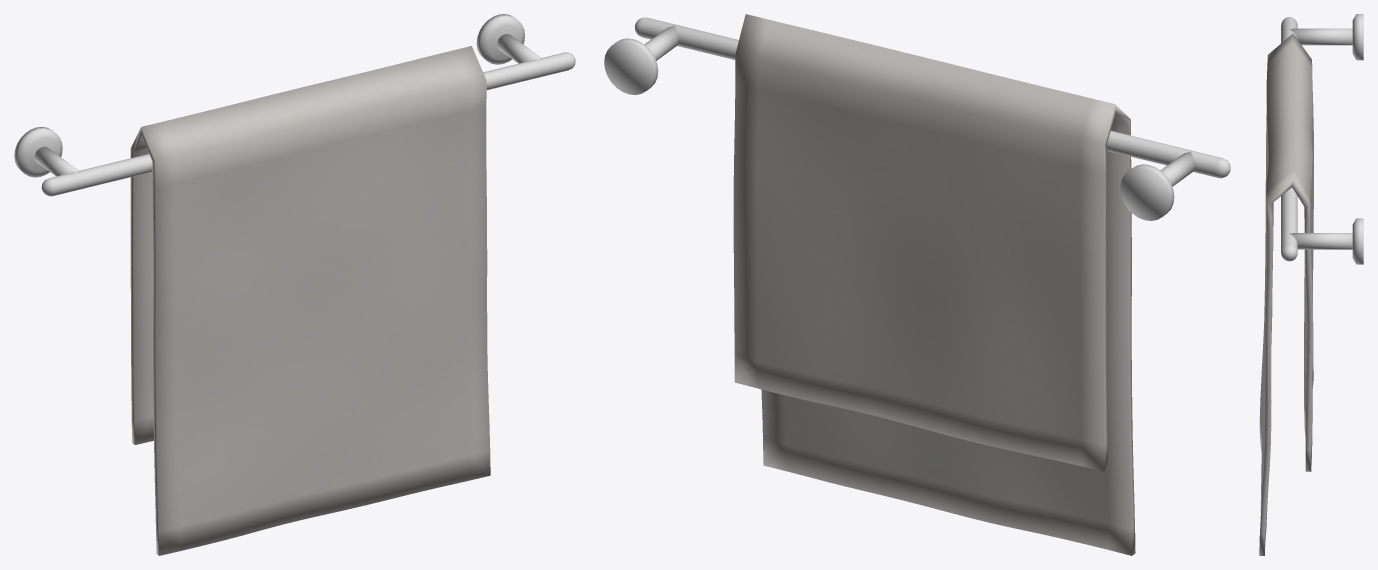
File: toallero_barra_60.glb
The picture shows the model from 3 angles, left to right: view 1: azimuth 30°, elevation 25°; view 2: azimuth 150°, elevation 25°; view 3: azimuth 270°, elevation 25°; orthographic projection. The views are drawn at different scales.
Visible parts, largest first — view 1: toallero_barra_60; view 2: toallero_barra_60; view 3: toallero_barra_60.
Part boxes in pixels (bbox=[...]): toallero_barra_60: bbox=[14, 14, 575, 555]; toallero_barra_60: bbox=[604, 14, 1230, 555]; toallero_barra_60: bbox=[1259, 14, 1363, 555].
Bounding box in the file's own units: 0.598 × 0.4472 × 0.1124.
2 materials, 1 textured.
